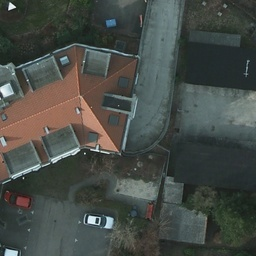car: (82, 214, 115, 230), (7, 192, 33, 208)
